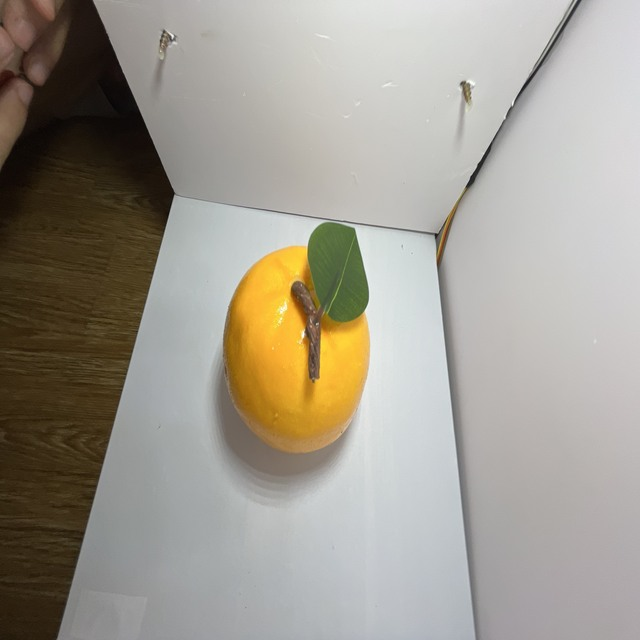Cam vang: (218, 236, 374, 458)
